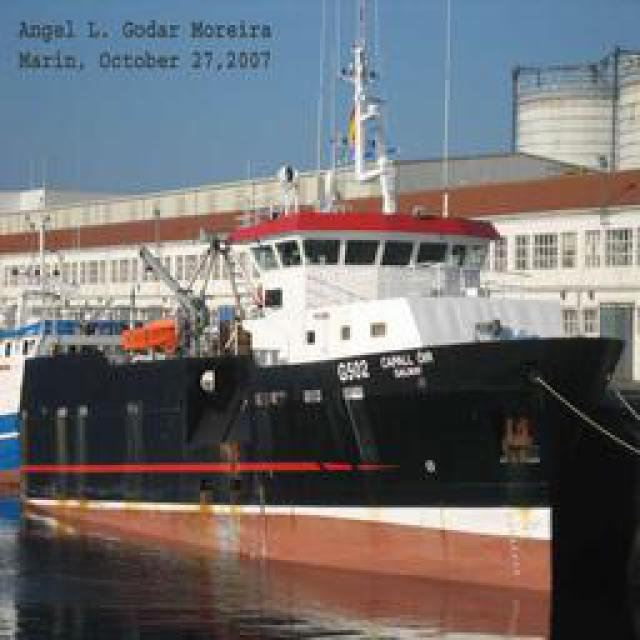Ship: (14, 36, 637, 554)
